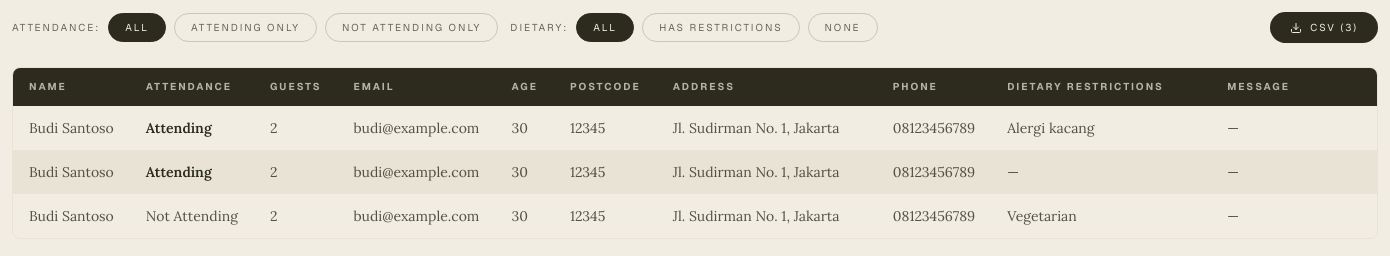
Test: RsvpTable — filtering › combines attendance and dietary filters with AND logic
Click the button "Attending only": (246, 28) x1=174 y1=13 x2=317 y2=42
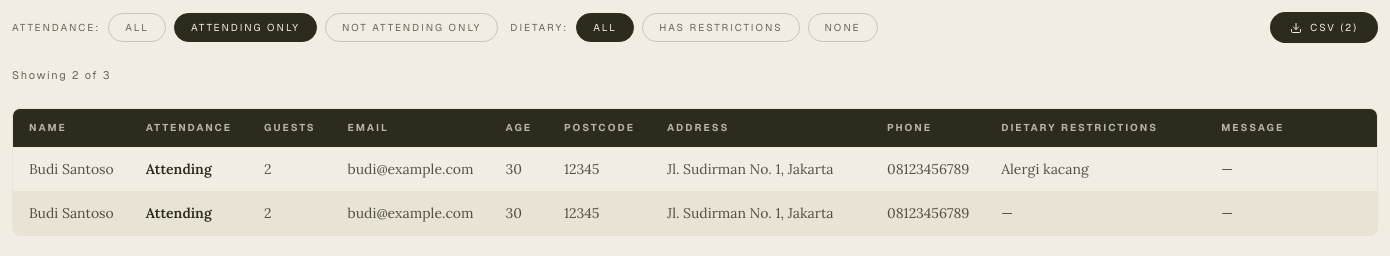
Click the button "Has restrictions": (721, 28) x1=642 y1=13 x2=800 y2=42
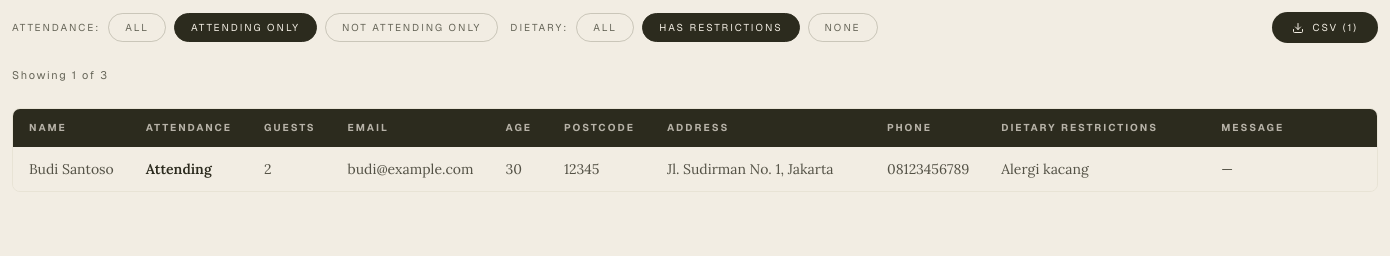
Check: the text "Showing 1 of 3" is shown, box x1=12 y1=68 x2=108 y2=82
